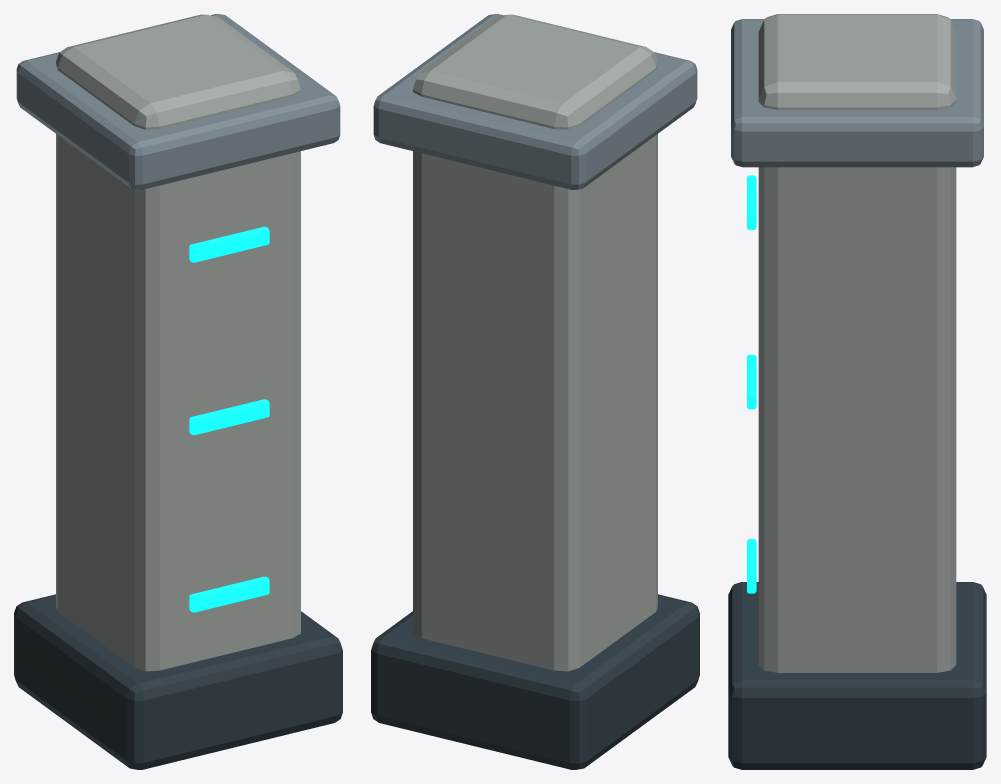
File: Pillar.glb
The picture shows the model from 3 angles, left to right: view 1: azimuth 30°, elevation 25°; view 2: azimuth 150°, elevation 25°; view 3: azimuth 270°, elevation 25°; orthographic projection. The views are drawn at different scales.
Parts seen in each view (by area): view 1: Pillar_StoneCore, Pillar_DarkFoot, Pillar_MetalCap, Pillar_CyanBand_0.62, Pillar_CyanBand_2.08, Pillar_CyanBand_1.36; view 2: Pillar_StoneCore, Pillar_DarkFoot, Pillar_MetalCap; view 3: Pillar_StoneCore, Pillar_DarkFoot, Pillar_MetalCap, Pillar_CyanBand_1.36, Pillar_CyanBand_0.62, Pillar_CyanBand_2.08.
Part boxes in pixels (<box>): Pillar_StoneCore: <box>56,14,300,671</box>; Pillar_DarkFoot: <box>14,594,342,769</box>; Pillar_MetalCap: <box>16,14,340,189</box>; Pillar_CyanBand_0.62: <box>189,576,269,612</box>; Pillar_CyanBand_2.08: <box>189,226,269,262</box>; Pillar_CyanBand_1.36: <box>189,399,269,435</box>; Pillar_StoneCore: <box>413,14,657,671</box>; Pillar_DarkFoot: <box>371,594,699,769</box>; Pillar_MetalCap: <box>373,14,697,189</box>; Pillar_StoneCore: <box>758,14,956,672</box>; Pillar_DarkFoot: <box>728,582,986,769</box>; Pillar_MetalCap: <box>731,19,983,167</box>; Pillar_CyanBand_1.36: <box>747,354,756,409</box>; Pillar_CyanBand_0.62: <box>747,539,756,593</box>; Pillar_CyanBand_2.08: <box>747,175,756,229</box>.
Bounding box in the file's own units: 0.94 × 2.7 × 0.94.
